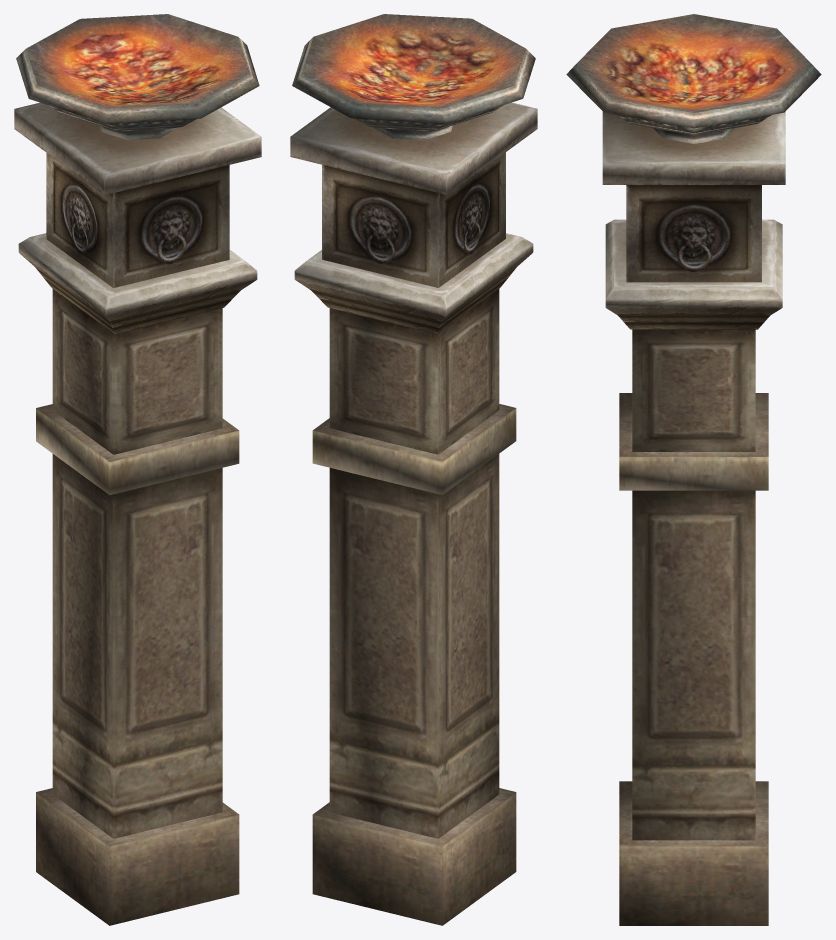
Rendered from colosseum_column.glb.
The picture shows the model from 3 angles, left to right: view 1: azimuth 30°, elevation 25°; view 2: azimuth 150°, elevation 25°; view 3: azimuth 270°, elevation 25°; orthographic projection.
Parts seen in each view (by area): view 1: colosseum_column_a01, colosseum_column_a03, colosseum_column_a02; view 2: colosseum_column_a01, colosseum_column_a03, colosseum_column_a02; view 3: colosseum_column_a01, colosseum_column_a03, colosseum_column_a02.
Boxes of the visible parts, x1,y1,x2,y2 form: colosseum_column_a01: [36, 289, 239, 925]; colosseum_column_a03: [14, 102, 261, 334]; colosseum_column_a02: [16, 14, 259, 140]; colosseum_column_a01: [312, 289, 516, 925]; colosseum_column_a03: [290, 102, 537, 333]; colosseum_column_a02: [292, 14, 535, 140]; colosseum_column_a01: [619, 329, 768, 925]; colosseum_column_a03: [602, 111, 785, 329]; colosseum_column_a02: [566, 14, 821, 143].
Size of the model in its own units: 4.1 by 14.73 by 4.1.
Materials: 3 (3 with a texture image).
